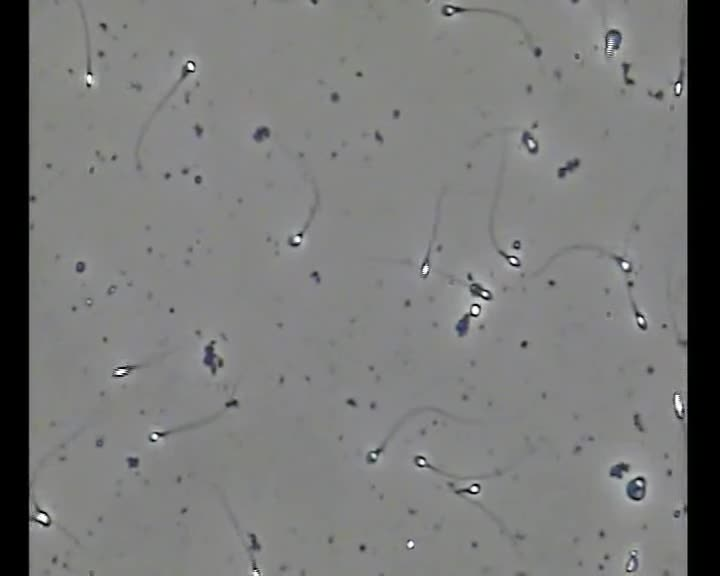spermhead: (625, 476, 646, 501), (605, 28, 622, 56), (521, 130, 538, 154), (469, 283, 492, 300), (32, 507, 51, 527), (672, 392, 685, 420), (624, 550, 639, 573), (112, 364, 135, 378), (441, 3, 465, 16), (616, 256, 631, 273), (248, 532, 261, 551), (366, 447, 381, 463), (635, 310, 647, 330), (182, 59, 196, 76), (288, 232, 303, 247), (504, 254, 521, 267), (419, 258, 430, 278), (673, 76, 683, 97), (148, 431, 165, 443), (84, 71, 96, 87), (414, 455, 428, 468), (466, 482, 480, 495), (469, 302, 481, 317), (249, 566, 261, 575), (407, 538, 415, 549)
